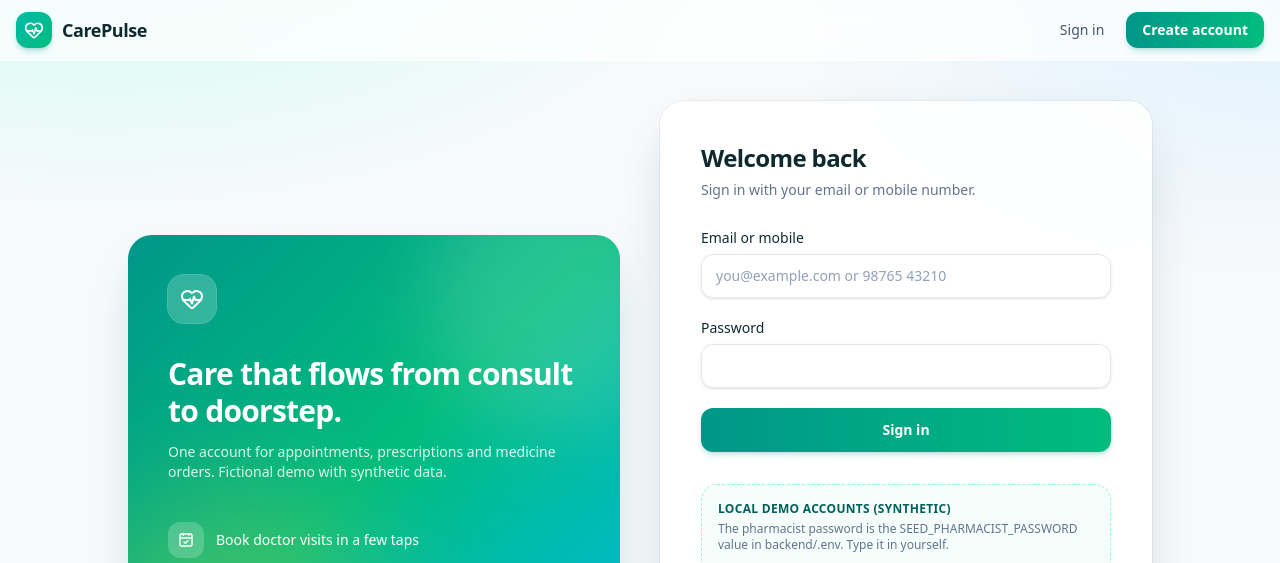
Test: login › shows one generic message for wrong credentials and clears the password
In the field labelled "Email or mobile": [906, 276] box [701,254,1111,298], type "anita.rao@example.com"
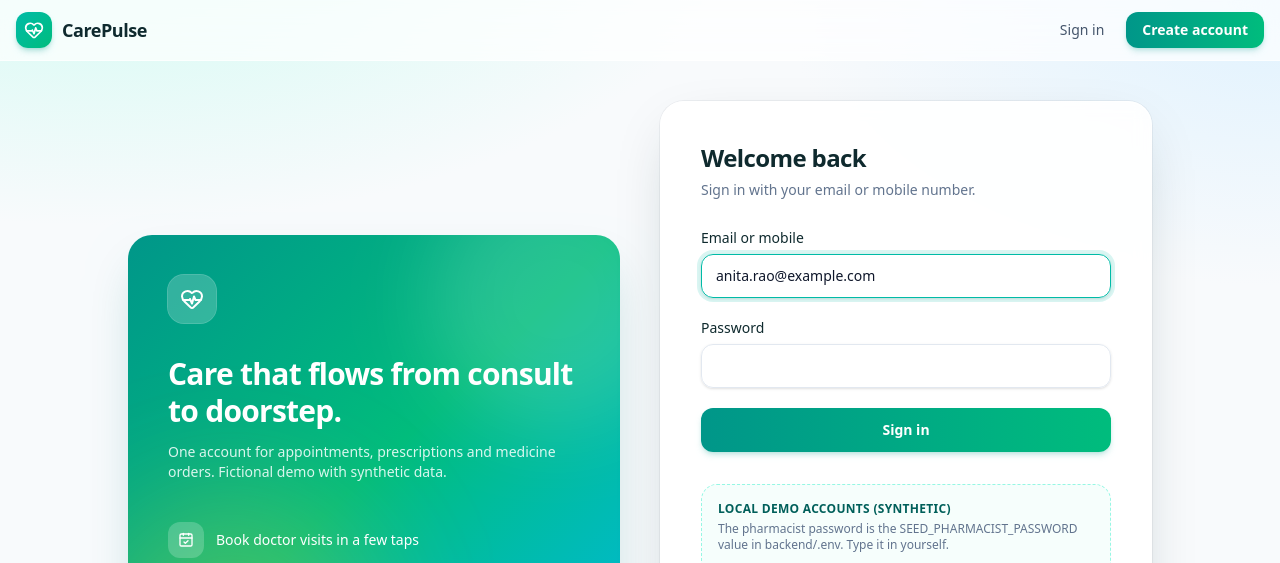
In the password field labelled "Password": [906, 366] box [701,344,1111,388], type "Wrong@1234"
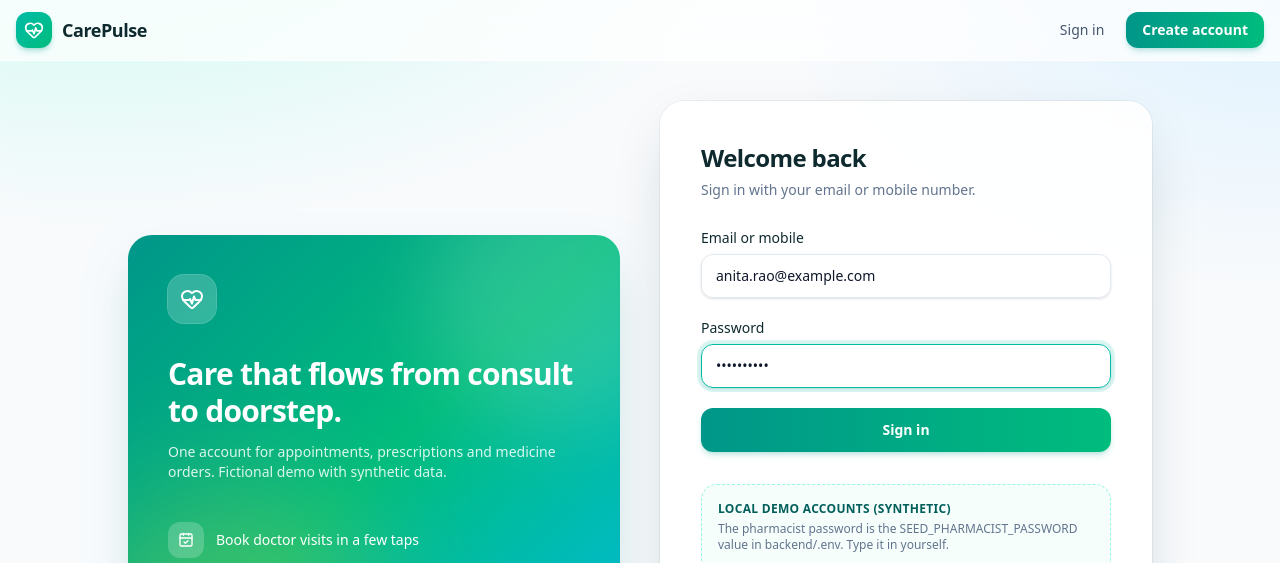
Click the button "Sign in": [906, 430] box [701,408,1111,452]
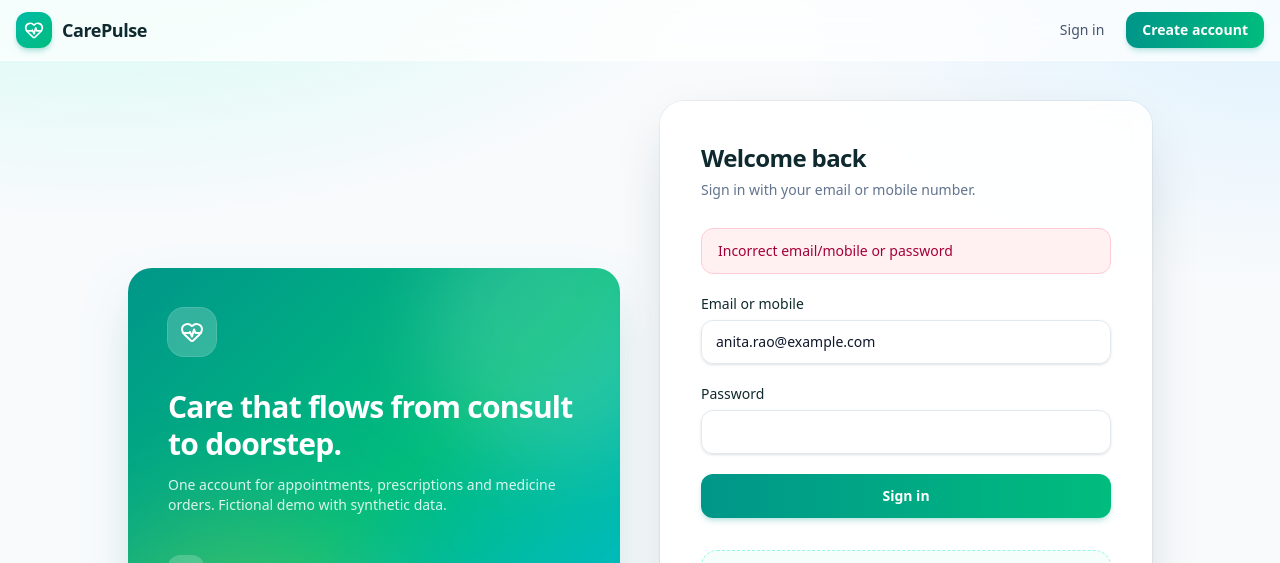
expect the message reads "Incorrect email/mobile or password": met, box [718,241,953,260]
expect the password field labelled "Password" is empty: met, box [701,410,1111,454]
